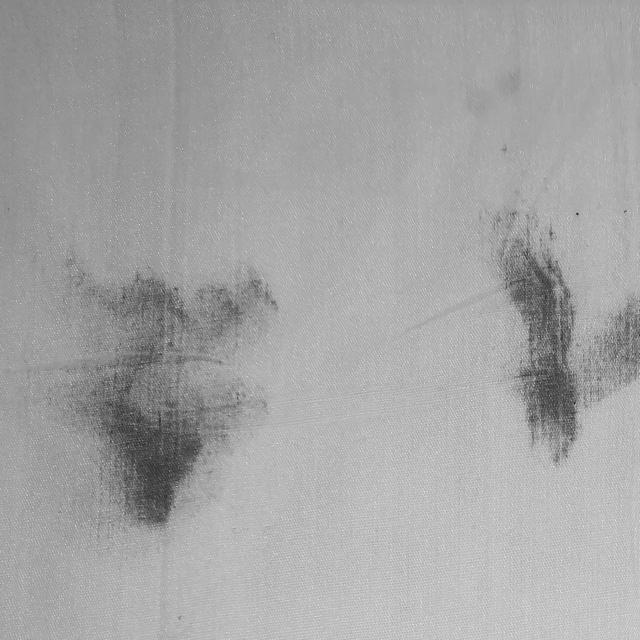Stain: (29, 245, 283, 547), (484, 206, 640, 463)
